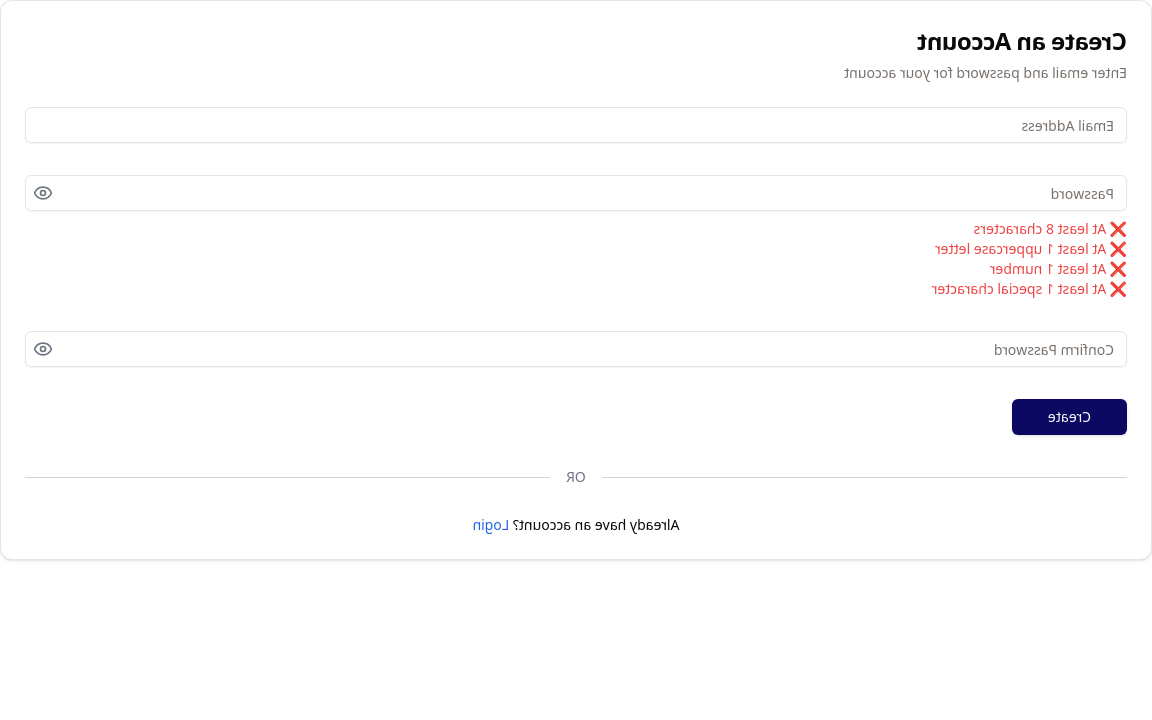
CreateForm Component › validates password confirmation and prevents account creation when passwords do not match
The width and height of the screenshot is (1152, 720).
In the field with placeholder "Email Address": x=576, y=125 [25,107,1127,143], type "test2025@test.com"
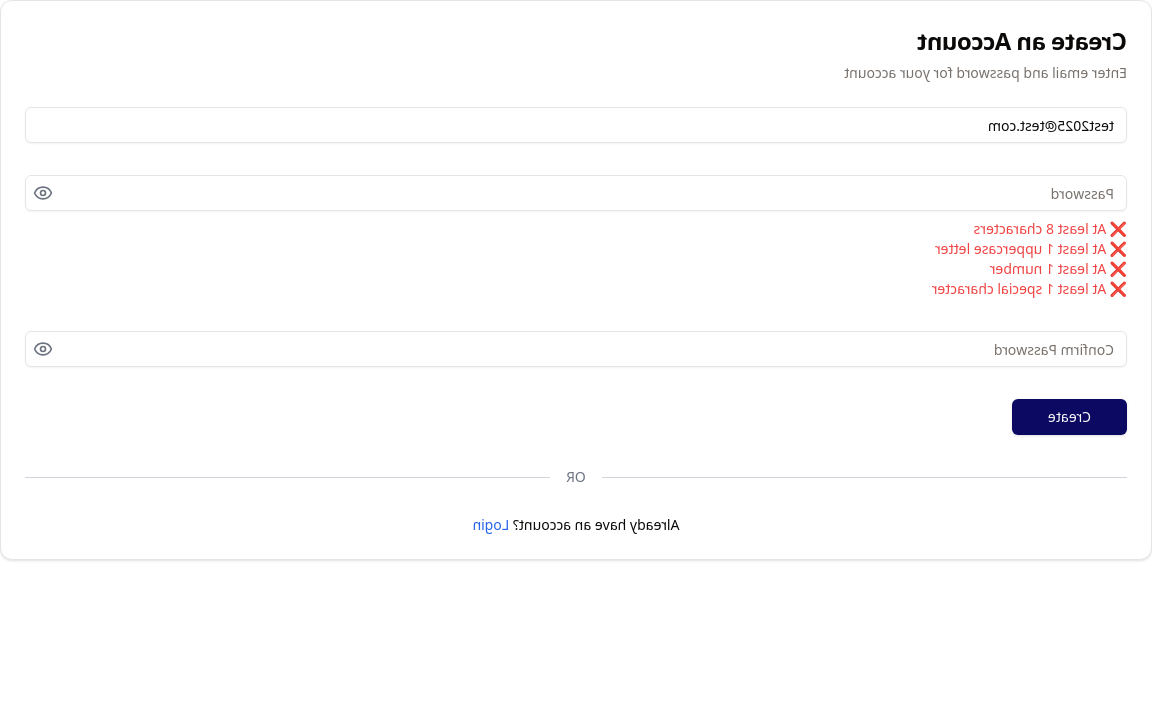
In the password field with placeholder "Password": x=576, y=193 [25,175,1127,211], type "Password123!"
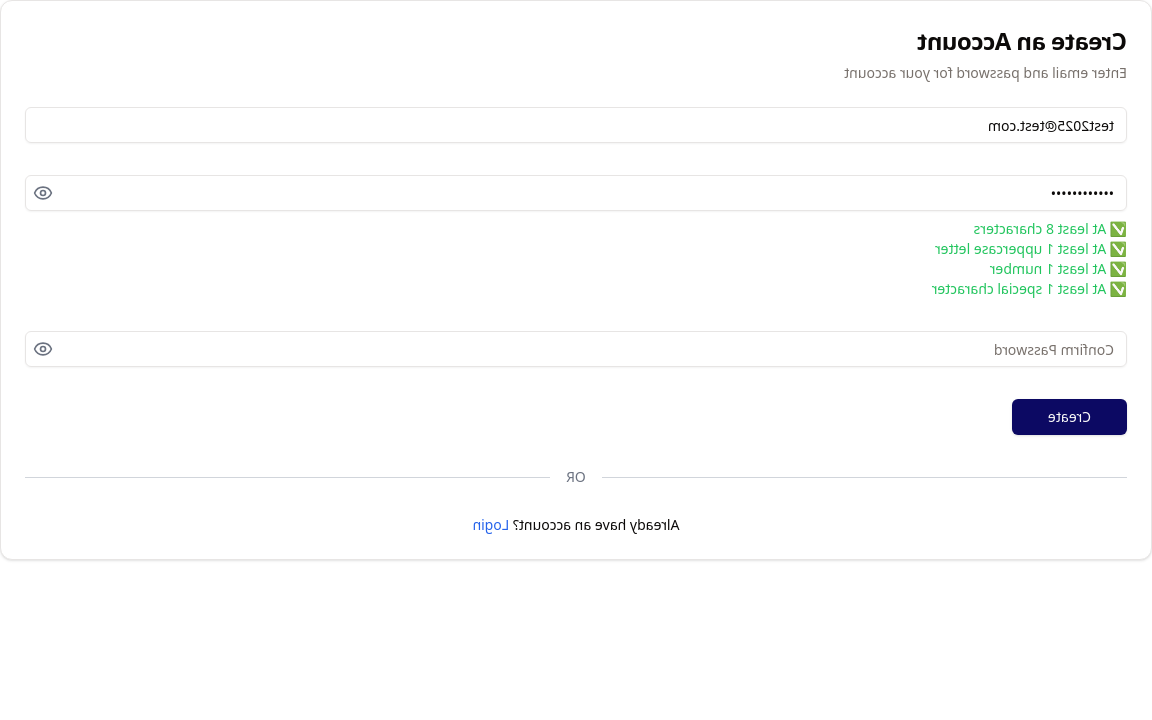
Click the button "Create": x=1069, y=417 [1012,399,1127,435]
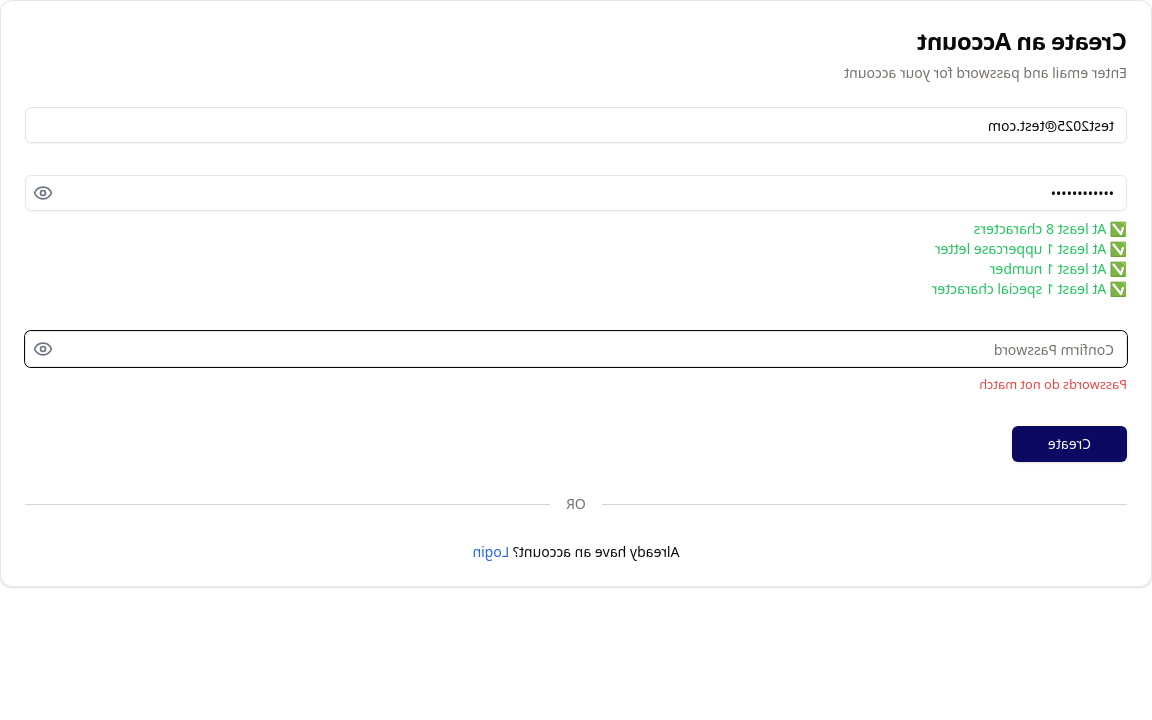
expect the text "Passwords do not match" is shown: met, box [979,375,1127,393]
